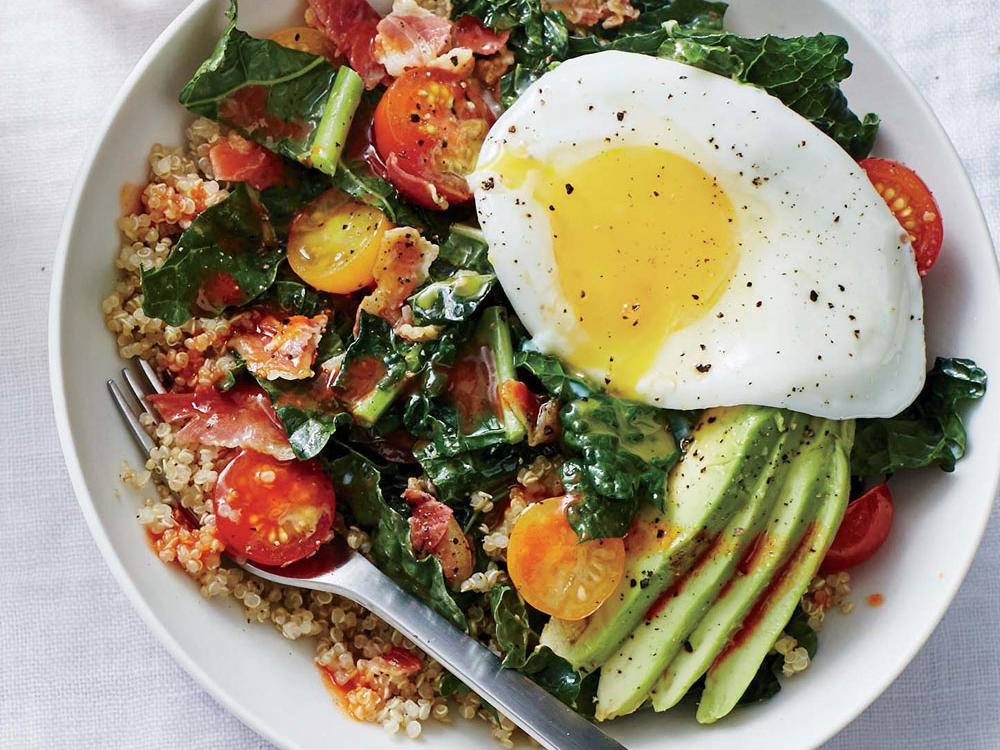chopped lettuce: (392, 353, 609, 516)
fried egg: (484, 68, 914, 410)
